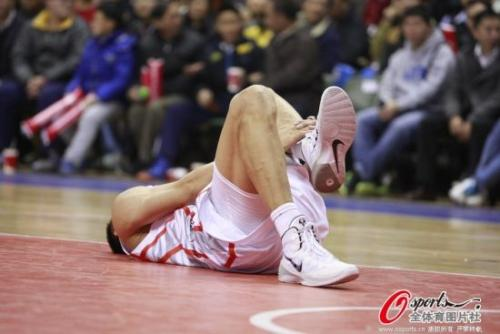10+: (1, 1, 498, 291)
down: (101, 81, 366, 288)
